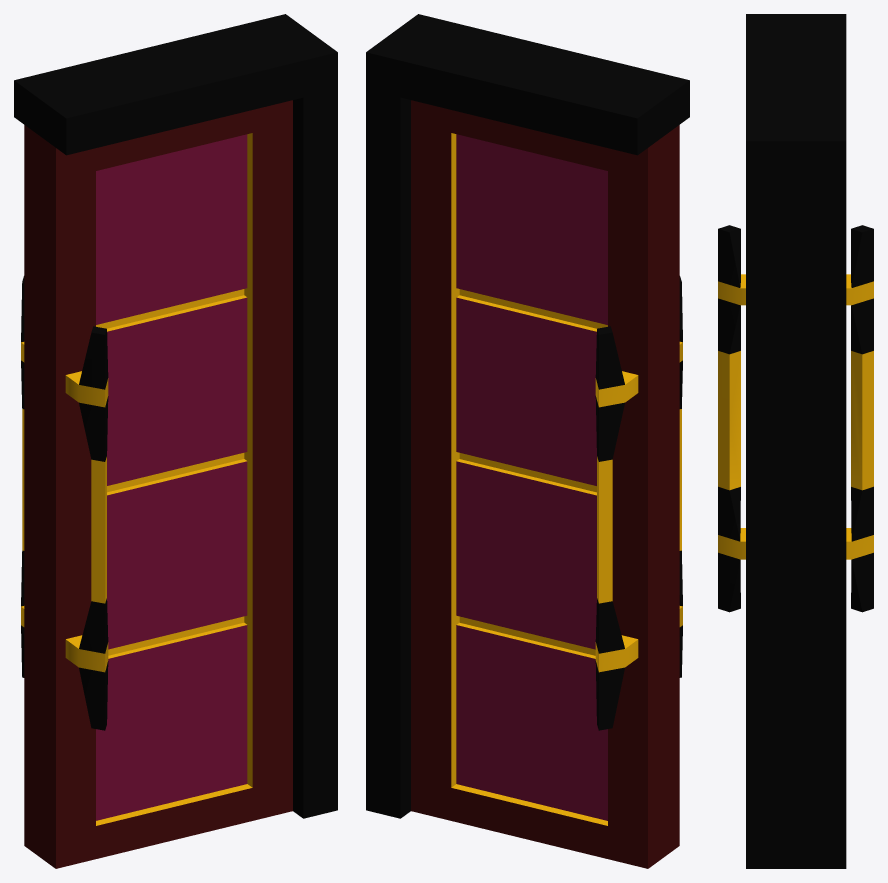
File: obj_door.FBX
The picture shows the model from 3 angles, left to right: view 1: azimuth 30°, elevation 25°; view 2: azimuth 150°, elevation 25°; view 3: azimuth 270°, elevation 25°; orthographic projection. The views are drawn at different scales.
Visible parts, largest first — view 1: Box001; view 2: Box001; view 3: Box001.
Boxes of the visible parts, x1,y1,x2,y2 form: Box001: [14, 14, 337, 868]; Box001: [366, 14, 689, 868]; Box001: [718, 14, 873, 868].
Size of the model in its own units: 150 by 400 by 77.55.
